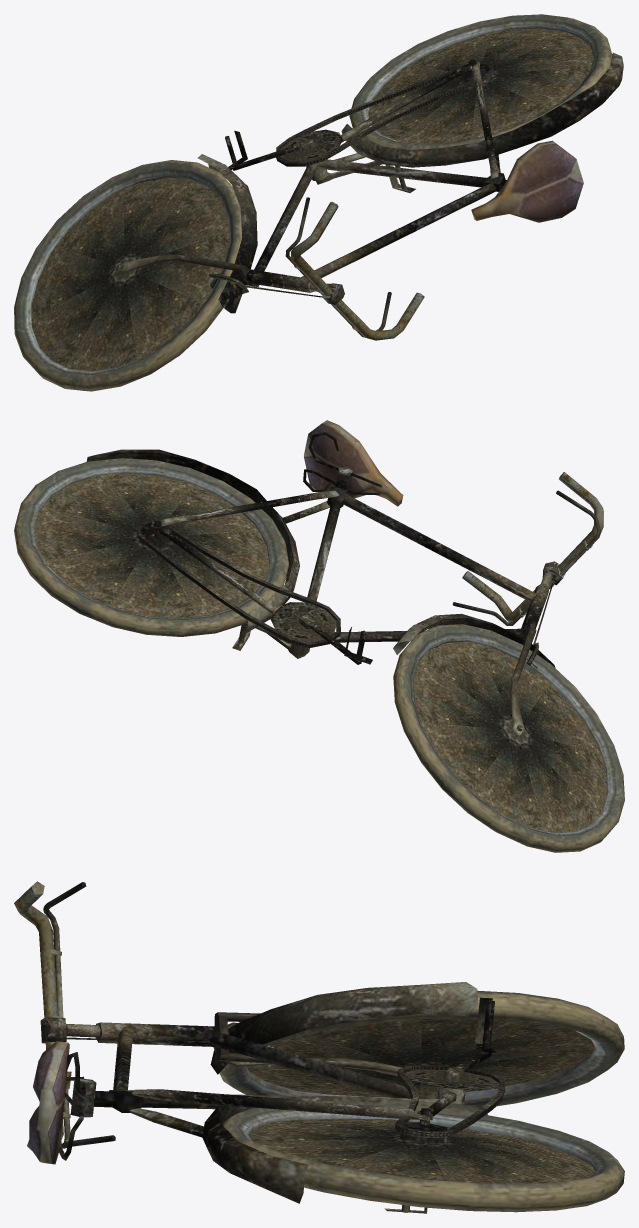
File: prop_bike.glb
3 renders of one model, top to bottom at view 1: azimuth 30°, elevation 25°; view 2: azimuth 150°, elevation 25°; view 3: azimuth 270°, elevation 25°, orthographic. The views are drawn at different scales.
Size of the model in its own units: 65.98 by 26.02 by 41.6.
1 material, 1 textured.
